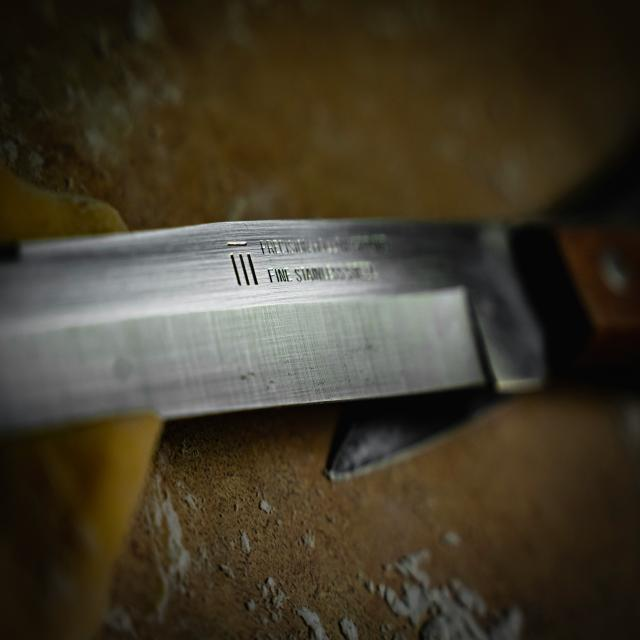knife: (0, 216, 640, 431)
